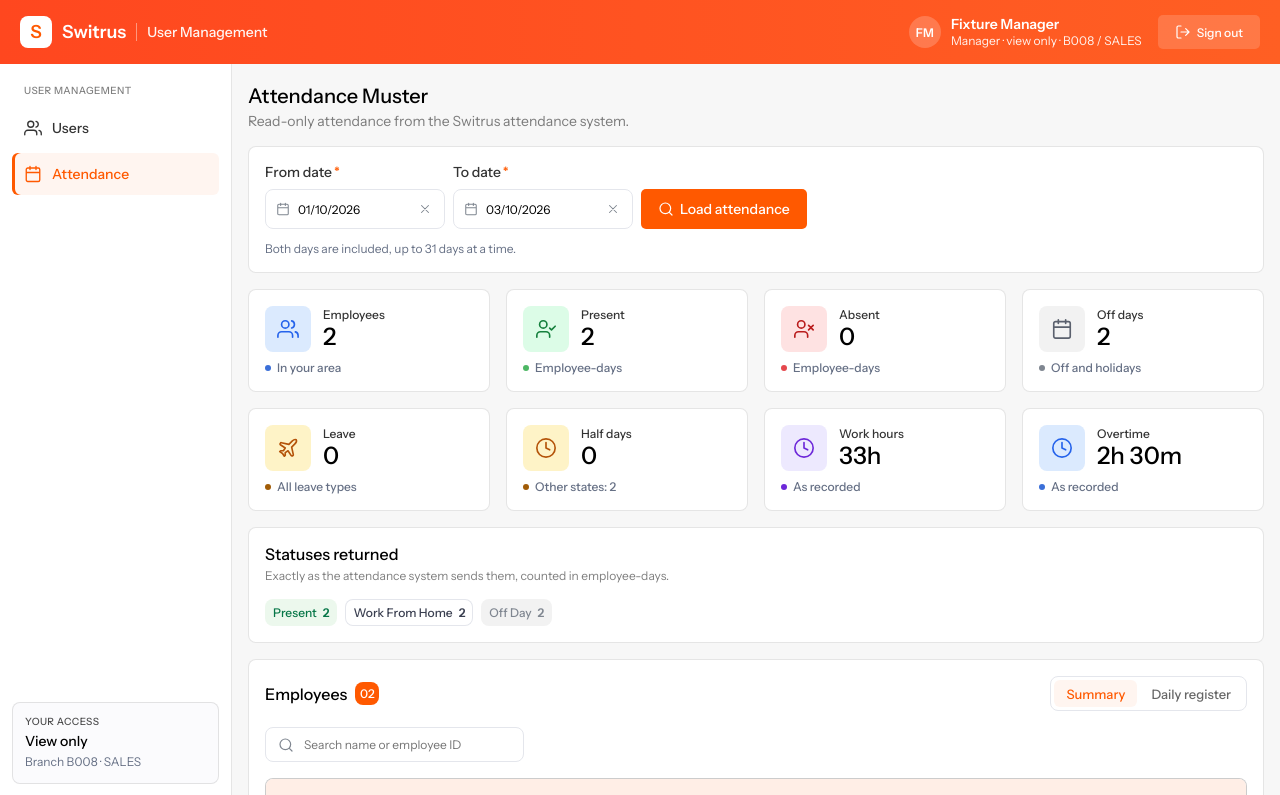
Test case: Attendance Muster › maps each day to its date column in the daily register
Click the radio button labelled "Daily register".
click(1191, 694)  # box top-left (1139, 680), bottom-right (1243, 707)
(page scrolled)
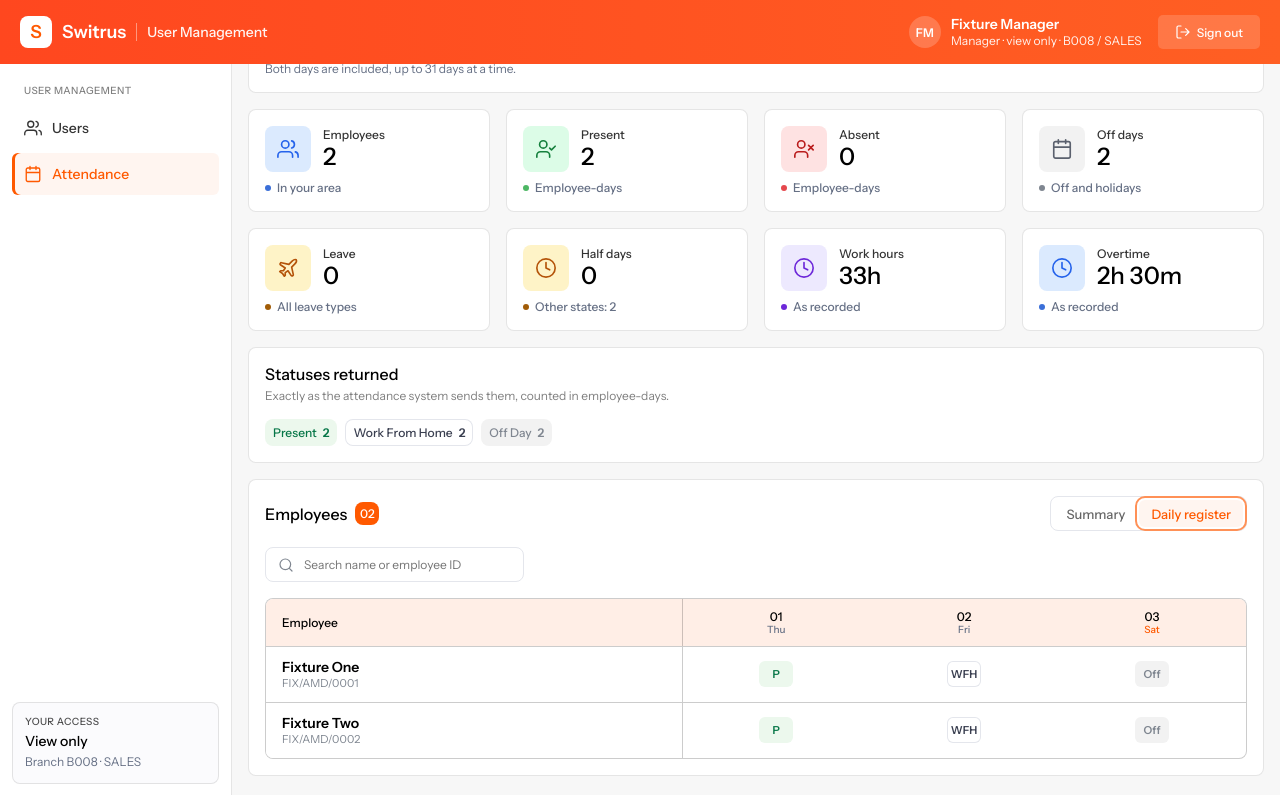
Check: the column headings read "Employee", "01Thu", "02Fri", "03Sat", in this order, box top-left (266, 599), bottom-right (682, 646); top-left (682, 599), bottom-right (870, 646); top-left (870, 599), bottom-right (1058, 646); top-left (1058, 599), bottom-right (1246, 646)
Check: the cells read "P", "WFH", "Off", in this order, box top-left (682, 646), bottom-right (870, 702); top-left (870, 646), bottom-right (1058, 702); top-left (1058, 646), bottom-right (1246, 702)
Check: the text named "02/10/2026 (Fri): Work From Home" is shown, box top-left (947, 661), bottom-right (981, 687)
